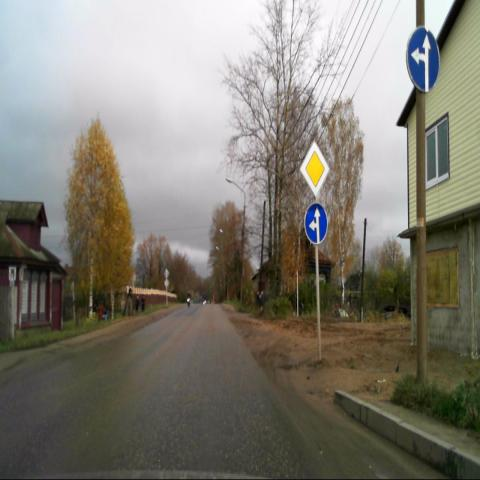4_1_5: (405, 25, 440, 92), (304, 202, 328, 244)
